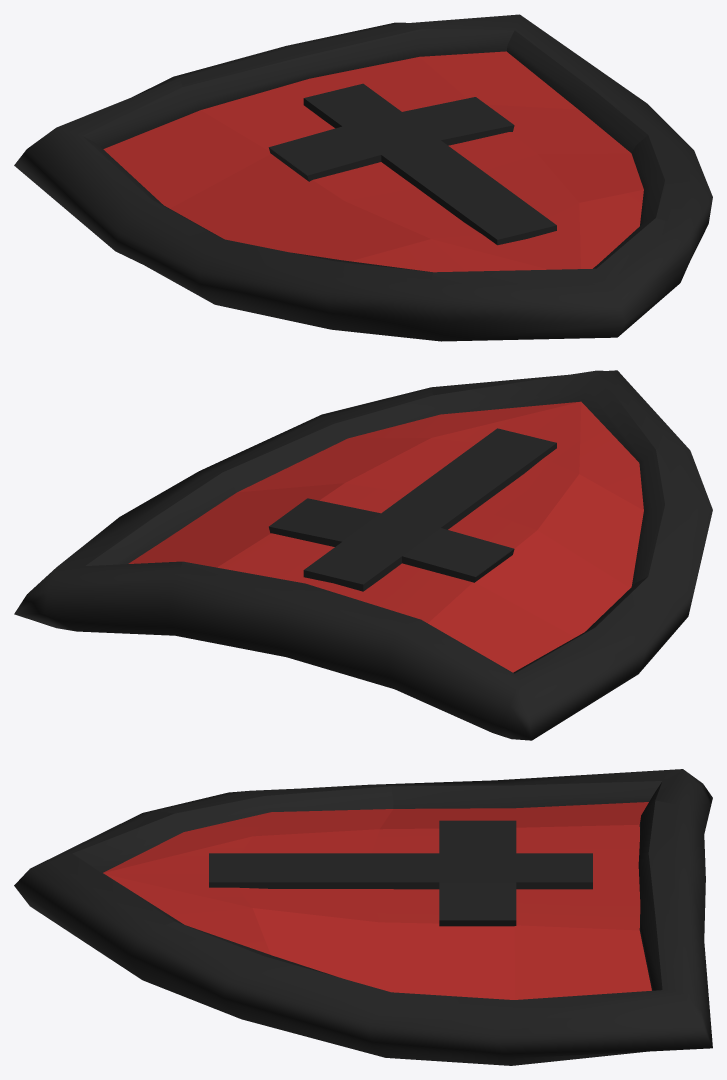
The model's file is medievalPlatform (1).fbx.
The picture shows the model from 3 angles, top to bottom: view 1: azimuth 30°, elevation 25°; view 2: azimuth 150°, elevation 25°; view 3: azimuth 270°, elevation 25°; orthographic projection.
Visible parts, largest first — view 1: escudo; view 2: escudo; view 3: escudo.
Boxes of the visible parts, bbox=[...] form: escudo: bbox=[14, 14, 712, 341]; escudo: bbox=[14, 370, 712, 740]; escudo: bbox=[14, 769, 712, 1065].
Size of the model in its own units: 749 by 137 by 866.
